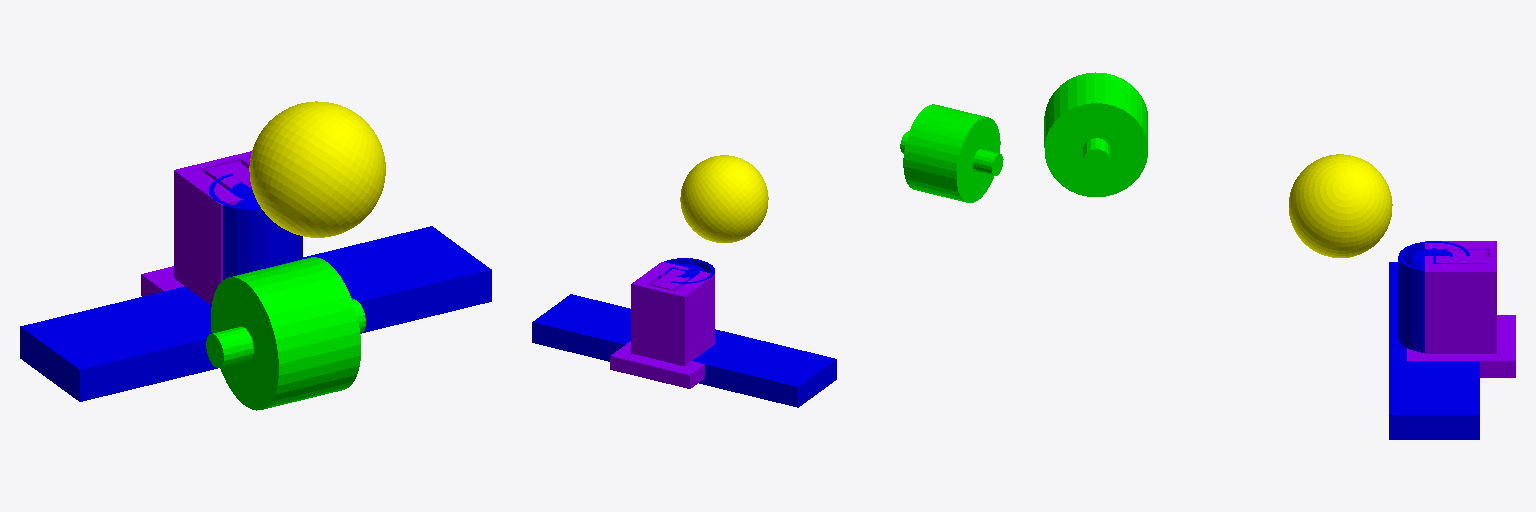
The robot description file, URDF, robot "full_assembly_robot_unit":
<?xml version="1.0" encoding="utf-8"?>
<!-- My latest version-->
<robot name="full_assembly_robot_unit">

  <link name="chassis_link">
    <inertial>
      <origin xyz="-1.74880500214631E-05 -0.00532025583432265 -0.00564778889374386" rpy="0 0 0" />
      <mass value="0.0508" />
      <inertia ixx="1.18E-05" ixy="0" ixz="0" iyy="3.23E-05" iyz="0" izz="2.35E-05" />
    </inertial>
    <visual>
      <geometry>
        <mesh filename="robots/meshes/chassis_link.STL" />
      </geometry>
      <material name="dark_grey"><color rgba="0.2 0.2 0.2 1" /></material>
    </visual>
    <collision>
      <geometry>
        <mesh filename="robots/meshes/chassis_link.STL"/>
      </geometry>
    </collision>
  </link>

  <link name="wheel_left_link">
    <inertial>
      <origin xyz="-0.004 0 0" rpy="0 0 0" />
      <mass value="0.015" /> <inertia ixx="1E-07" ixy="0" ixz="0" iyy="1E-07" iyz="0" izz="1E-07" />
    </inertial>
    <visual>
      <geometry>
        <mesh filename="robots/meshes/left_wheel_link.STL" />
      </geometry>
      <material name="green"><color rgba="0.0 1.0 0.0 1" /></material>
    </visual>
    <collision>
      <geometry>
        <mesh filename="robots/meshes/left_wheel_link.STL" />
      </geometry>
      <surface>
        <friction>
          <ode mu="1.0" mu2="1.0"/>
        </friction>
      </surface>
    </collision>
  </link>

  <joint name="wheel_left_joint" type="continuous">
    <origin xyz="-0.02264 -0.04734 0.0161" rpy="1.5708 0 3.1416" />
    <parent link="chassis_link" />
    <child link="wheel_left_link" />
    <axis xyz="-1 0 0" />
  </joint>

  <link name="wheel_right_link">
    <inertial>
      <origin xyz="-0.004 0 0" rpy="0 0 0" />
      <mass value="0.015" /> <inertia ixx="1E-07" ixy="0" ixz="0" iyy="1E-07" iyz="0" izz="1E-07" />
    </inertial>
    <visual>
      <geometry>
        <mesh filename="robots/meshes/right_wheel_link.STL" />
      </geometry>
      <material name="red"><color rgba="1.0 0.0 0.0 1" /></material>
    </visual>
    <collision>
      <geometry>
        <mesh filename="robots/meshes/right_wheel_link.STL" />
      </geometry>
      <surface>
        <friction>
          <ode mu="1.0" mu2="1.0"/>
        </friction>
      </surface>
    </collision>
  </link>

  <joint name="wheel_right_joint" type="continuous">
    <origin xyz="0.02264 -0.04734 0.0161" rpy="1.5708 0 0" />
    <parent link="chassis_link" />
    <child link="wheel_right_link" />
    <axis xyz="1 0 0" />
  </joint>

  <link name="rear_ball_link">
    <inertial>
      <origin xyz="0 0 0" rpy="0 0 0" />
      <mass value="0.005" />
      <inertia ixx="1E-08" ixy="0" ixz="0" iyy="1E-08" iyz="0" izz="1E-08" />
    </inertial>
    <visual>
      <geometry>
        <mesh filename="robots/meshes/rear_ball_link.STL" />
      </geometry>
      <material name="yellow"><color rgba="1.0 1.0 0.0 1" /></material>
    </visual>
    <collision>
      <geometry>
        <mesh filename="robots/meshes/rear_ball_link.STL" />
      </geometry>
    </collision>
  </link>

  <joint name="rear_ball_joint" type="fixed">
    <origin xyz="0 -0.020375 0.0161" rpy="1.5708 0 1.5708" />
    <parent link="chassis_link" />
    <child link="rear_ball_link" />
    <axis xyz="1 0 0" />
  </joint>

  <link name="UV_LED_link">
    <visual>
      <geometry>
        <mesh filename="robots/meshes/UV_LED_link.STL" />
      </geometry>
      <material name="purple"><color rgba="0.6 0.0 1.0 1" /></material>
    </visual>
  </link>

  <joint name="UV_LED_joint" type="fixed">
    <origin xyz="0 -0.0070524 0.01" rpy="1.5708 0 -1.5708" />
    <parent link="chassis_link" />
    <child link="UV_LED_link" />
  </joint>

  <link name="sensor_camera_link">
    <visual>
      <geometry>
        <mesh filename="robots/meshes/sensor_camera_link.STL" />
      </geometry>
      <material name="blue"><color rgba="0.0 0.0 1.0 1" /></material>
    </visual>
  </link>

  <joint name="sensor_camera_joint" type="fixed">
    <origin xyz="0 -0.01 0.01" rpy="1.5708 0 1.5708" />
    <parent link="chassis_link" />
    <child link="sensor_camera_link" />
  </joint>

  <!-- <link name="ReservoirV2_link">
    <inertial>
      <origin xyz="0 0 -0.0187" rpy="0 0 0" />
      <mass value="0.0085" />
      <inertia ixx="2.04E-06" ixy="0" ixz="0" iyy="2.04E-06" iyz="0" izz="1.08E-06" />
    </inertial>
    <visual>
      <geometry>
        <mesh filename="robots/meshes/ReservoirV2.STL" />
      </geometry>
      <material name="cyan">
        <color rgba="0.0 0.8 0.8 1" />
      </material>
    </visual>
  </link>

  <joint name="ReservoirV2_joint" type="fixed">
    <origin xyz="0.01 0 0.0146" rpy="0 0 0" />
    <parent link="chassis_link" />
    <child link="ReservoirV2_link" />
    <axis xyz="0 0 1" />
  </joint> -->

</robot>

--- What the picture shows (computed from the rendered views, not written in the file) ---
Views: 3 orthographic renders of the robot side by side, from view 1: azimuth 30°, elevation 25°; view 2: azimuth 150°, elevation 25°; view 3: azimuth 270°, elevation 25°.
Robot: full_assembly_robot_unit — 6 links, 5 joints (2 continuous, 3 fixed); root link chassis_link; default pose: all joints at 0.
Visible links, largest first — view 1: sensor_camera_link, wheel_left_link, rear_ball_link, UV_LED_link; view 2: sensor_camera_link, UV_LED_link, wheel_left_link, rear_ball_link; view 3: sensor_camera_link, wheel_left_link, UV_LED_link, rear_ball_link.
Link boxes in pixels (x1=…): sensor_camera_link: x1=20, y1=173, x2=491, y2=401; wheel_left_link: x1=206, y1=257, x2=365, y2=410; rear_ball_link: x1=249, y1=101, x2=385, y2=237; UV_LED_link: x1=141, y1=151, x2=251, y2=305; sensor_camera_link: x1=532, y1=258, x2=836, y2=407; UV_LED_link: x1=610, y1=262, x2=714, y2=388; wheel_left_link: x1=900, y1=104, x2=1003, y2=202; rear_ball_link: x1=680, y1=155, x2=768, y2=242; sensor_camera_link: x1=1389, y1=241, x2=1479, y2=439; wheel_left_link: x1=1044, y1=72, x2=1147, y2=196; UV_LED_link: x1=1407, y1=241, x2=1515, y2=377; rear_ball_link: x1=1289, y1=154, x2=1392, y2=257.
Bounding box of the posed robot: 0.0455 × 0.052 × 0.0248 m (x, y, z).
4 mesh visuals loaded from 6 distinct referenced files (4 binary STL); not drawn: 2 (reference not matched to a file when rendering).
